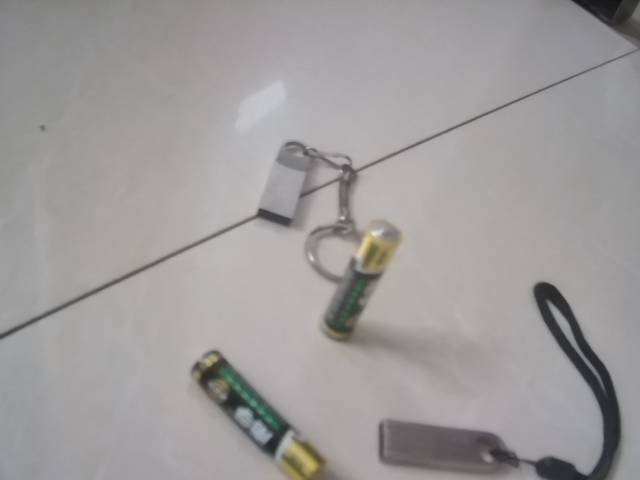U-disk: (369, 396, 629, 480), (253, 136, 361, 245)
battery: (179, 347, 330, 480), (323, 222, 404, 348)
